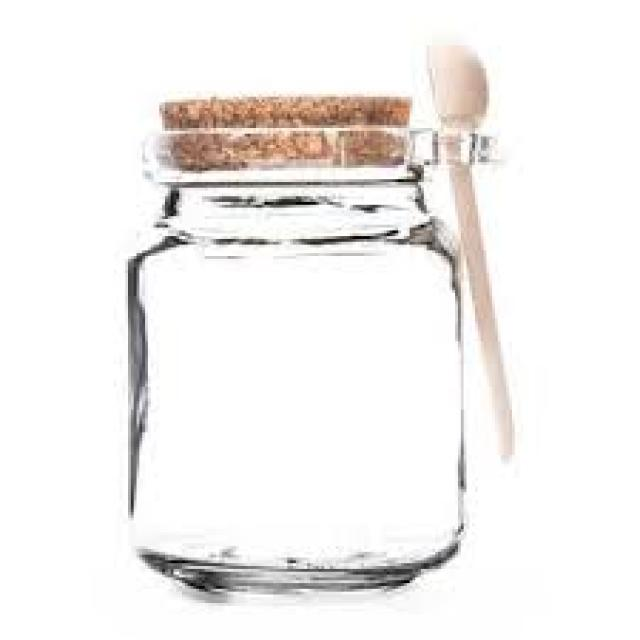glass: (122, 125, 464, 600)
